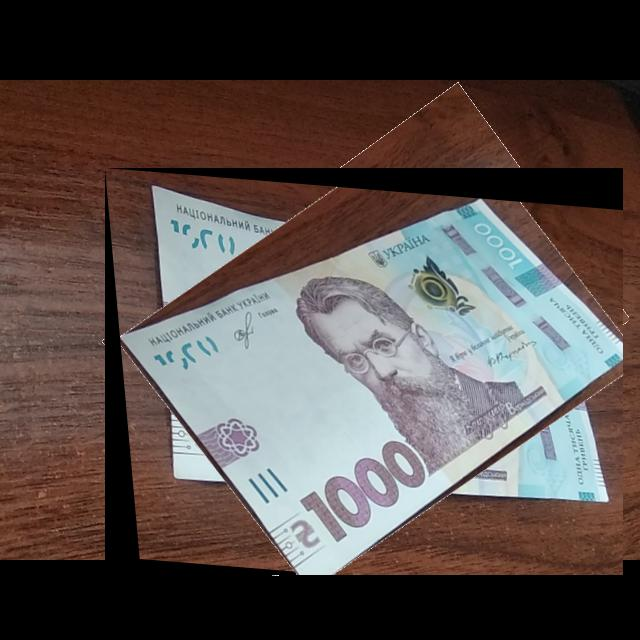1000uah: (117, 193, 624, 576)
